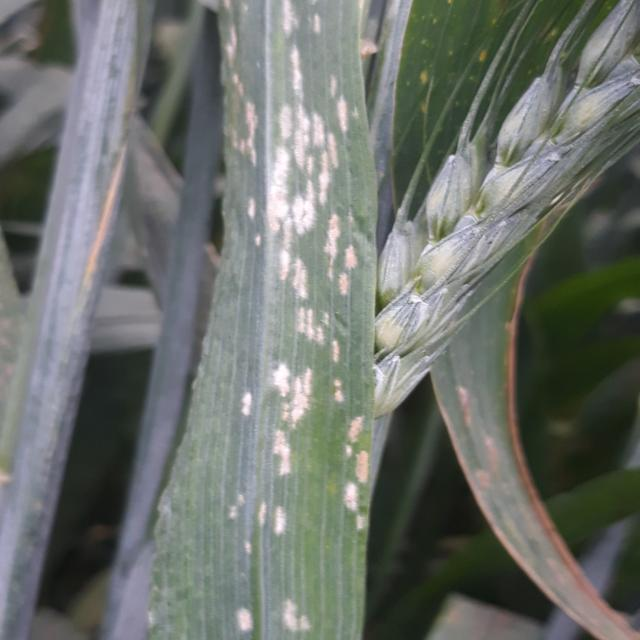powder_mildew: (134, 3, 372, 640), (411, 4, 639, 640)
